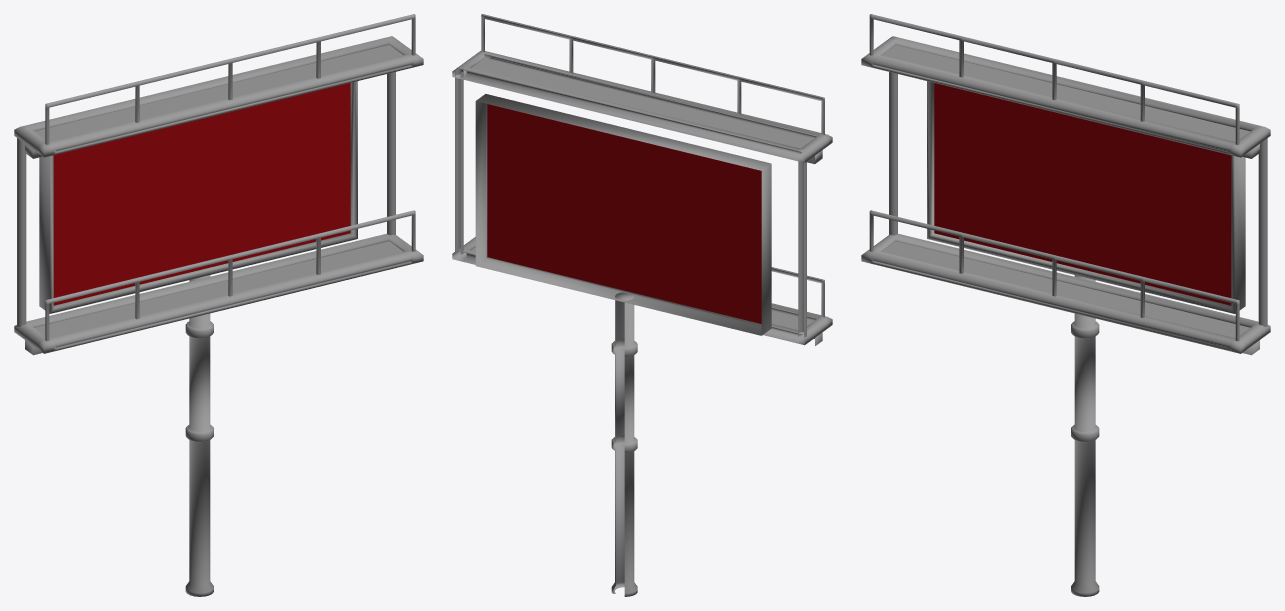
Rendered from Panneau_pub_low.FBX.
3 renders of one model, left to right at view 1: azimuth 30°, elevation 25°; view 2: azimuth 150°, elevation 25°; view 3: azimuth 330°, elevation 25°, orthographic. The views are drawn at different scales.
Visible parts, largest first — view 1: Poteau_low, Ecran_low; view 2: Ecran_low, Poteau_low; view 3: Poteau_low, Ecran_low.
Part boxes in pixels (bbox=[...]): Poteau_low: bbox=[14, 14, 423, 596]; Ecran_low: bbox=[53, 83, 350, 305]; Ecran_low: bbox=[487, 104, 761, 323]; Poteau_low: bbox=[452, 14, 832, 596]; Poteau_low: bbox=[861, 14, 1270, 596]; Ecran_low: bbox=[934, 83, 1231, 305].
Bounding box in the file's own units: 246 × 344 × 45.75.
